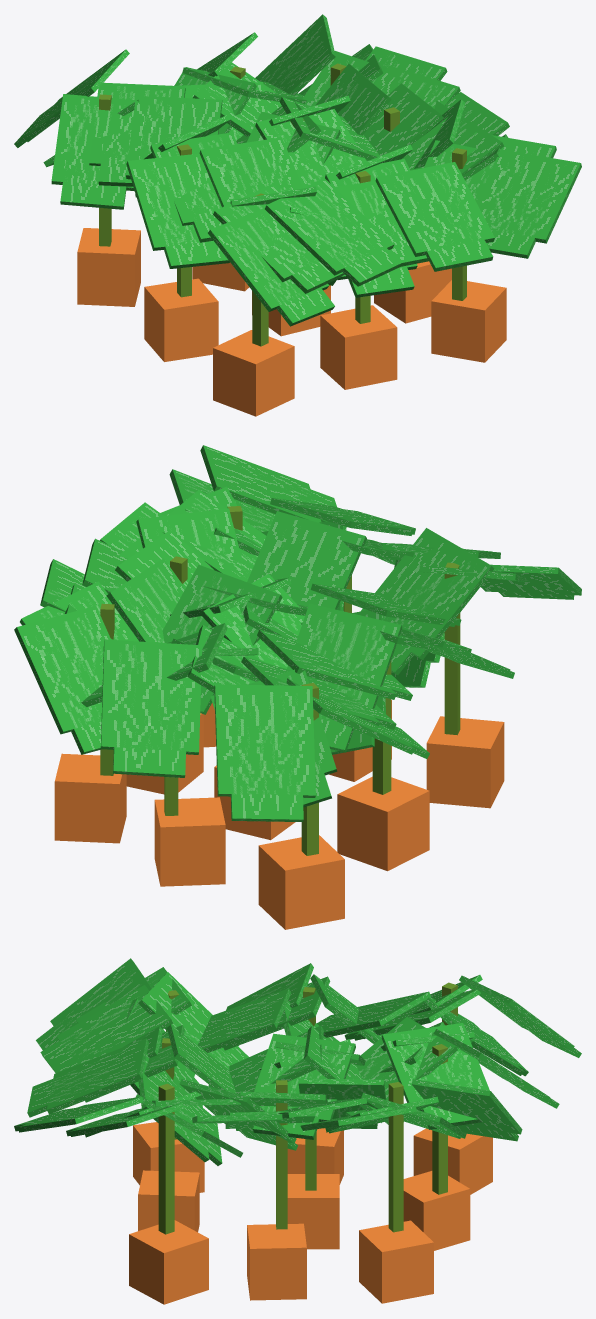
File: asset.gltf
The picture shows the model from 3 angles, top to bottom: view 1: azimuth 30°, elevation 25°; view 2: azimuth 150°, elevation 25°; view 3: azimuth 270°, elevation 25°; orthographic projection. The views are drawn at different scales.
Parts seen in each view (by area): view 1: 2e6add8c-8310-5882-9411-9903f2170ba1, 874b0e2f-2b13-dc10-3941-88a4ee98e198, 6b1344cd-fff8-8c51-35d8-28aec647a7d3, 2461cca8-0d82-c8ac-8c49-b8566c331aa0, d2cc36ee-bc96-4f14-b1b1-709f5e9df36e, 7a130faa-75f1-661d-7d40-0a89705b1e27, 17385b1c-6ed8-9d18-7ac7-79b058b072c2, 6a0a8e00-3888-a424-7a2b-5a4afdfb6a24, 6bcbfed2-0e09-b965-676a-37e3fd68507a, fae74464-c7e7-362f-04f8-4a725764833a, a26a0564-12e1-7bca-9bce-96d365f4b1da, 7ac0c5b6-d6db-a7f7-cf4f-850089d728a9 (+60 smaller); view 2: f43c9e43-019e-976e-31ff-d704aba6339e, 11f4342c-8326-e826-5360-b698e6f43cd5, 796b915b-510a-710a-2c84-5c37d85ea25e, 17385b1c-6ed8-9d18-7ac7-79b058b072c2, d3d54784-bca8-da74-d89e-212394ff38c0, fae74464-c7e7-362f-04f8-4a725764833a, 2461cca8-0d82-c8ac-8c49-b8566c331aa0, 622c6d14-f972-e2ab-0b97-9b2092cc1918, c72795af-eba6-ba34-e8ad-93b0f8153e40, 53310d08-603f-1118-66d9-e86a787ea341, 1b27aa7b-8eb9-1711-e0a3-4ed537aa9ebf, 277d679c-5564-3a12-883b-c697aa576f96 (+50 smaller); view 3: 7a130faa-75f1-661d-7d40-0a89705b1e27, c72795af-eba6-ba34-e8ad-93b0f8153e40, e7ab2ed5-d9a4-b2d9-f298-c4c0dab22df7, 622c6d14-f972-e2ab-0b97-9b2092cc1918, 864ab296-f1f2-1aab-70b8-af11ed062a8f, 5df1d150-d3d2-5cdb-fb18-77c7cd222178, 7ac0c5b6-d6db-a7f7-cf4f-850089d728a9, fae74464-c7e7-362f-04f8-4a725764833a, 0e1c0124-e2f2-98ba-b2ae-f6574b03e564, 796b915b-510a-710a-2c84-5c37d85ea25e, d2cc36ee-bc96-4f14-b1b1-709f5e9df36e, 2e6add8c-8310-5882-9411-9903f2170ba1 (+57 smaller).
Part boxes in pixels (x1,y1,x2,y2): 2e6add8c-8310-5882-9411-9903f2170ba1: [375, 162, 494, 256]; 874b0e2f-2b13-dc10-3941-88a4ee98e198: [476, 149, 581, 243]; 6b1344cd-fff8-8c51-35d8-28aec647a7d3: [265, 178, 394, 275]; 2461cca8-0d82-c8ac-8c49-b8566c331aa0: [213, 330, 294, 416]; d2cc36ee-bc96-4f14-b1b1-709f5e9df36e: [320, 305, 397, 389]; 7a130faa-75f1-661d-7d40-0a89705b1e27: [431, 280, 506, 362]; 17385b1c-6ed8-9d18-7ac7-79b058b072c2: [144, 278, 218, 361]; 6a0a8e00-3888-a424-7a2b-5a4afdfb6a24: [138, 153, 229, 268]; 6bcbfed2-0e09-b965-676a-37e3fd68507a: [60, 95, 135, 209]; fae74464-c7e7-362f-04f8-4a725764833a: [77, 228, 140, 306]; a26a0564-12e1-7bca-9bce-96d365f4b1da: [208, 208, 329, 311]; 7ac0c5b6-d6db-a7f7-cf4f-850089d728a9: [277, 182, 401, 286]; f43c9e43-019e-976e-31ff-d704aba6339e: [214, 684, 315, 797]; 11f4342c-8326-e826-5360-b698e6f43cd5: [100, 639, 202, 754]; 796b915b-510a-710a-2c84-5c37d85ea25e: [14, 606, 110, 734]; 17385b1c-6ed8-9d18-7ac7-79b058b072c2: [337, 776, 429, 871]; d3d54784-bca8-da74-d89e-212394ff38c0: [247, 511, 366, 609]; fae74464-c7e7-362f-04f8-4a725764833a: [258, 835, 344, 929]; 2461cca8-0d82-c8ac-8c49-b8566c331aa0: [426, 716, 504, 808]; 622c6d14-f972-e2ab-0b97-9b2092cc1918: [154, 797, 225, 886]; c72795af-eba6-ba34-e8ad-93b0f8153e40: [54, 753, 126, 843]; 53310d08-603f-1118-66d9-e86a787ea341: [287, 603, 402, 724]; 1b27aa7b-8eb9-1711-e0a3-4ed537aa9ebf: [228, 687, 303, 821]; 277d679c-5564-3a12-883b-c697aa576f96: [307, 606, 388, 752]; 7a130faa-75f1-661d-7d40-0a89705b1e27: [129, 1220, 208, 1304]; c72795af-eba6-ba34-e8ad-93b0f8153e40: [359, 1220, 433, 1303]; e7ab2ed5-d9a4-b2d9-f298-c4c0dab22df7: [247, 1223, 306, 1300]; 622c6d14-f972-e2ab-0b97-9b2092cc1918: [403, 1171, 470, 1250]; 864ab296-f1f2-1aab-70b8-af11ed062a8f: [381, 1023, 489, 1111]; 5df1d150-d3d2-5cdb-fb18-77c7cd222178: [287, 1174, 339, 1249]; 7ac0c5b6-d6db-a7f7-cf4f-850089d728a9: [40, 990, 167, 1072]; fae74464-c7e7-362f-04f8-4a725764833a: [413, 1128, 492, 1194]; 0e1c0124-e2f2-98ba-b2ae-f6574b03e564: [27, 1043, 145, 1117]; 796b915b-510a-710a-2c84-5c37d85ea25e: [411, 1079, 522, 1134]; d2cc36ee-bc96-4f14-b1b1-709f5e9df36e: [138, 1170, 199, 1232]; 2e6add8c-8310-5882-9411-9903f2170ba1: [47, 1038, 148, 1114].
Bounding box in the file's own units: 0.4536 × 0.2531 × 0.6242.
3 materials, 3 textured.
